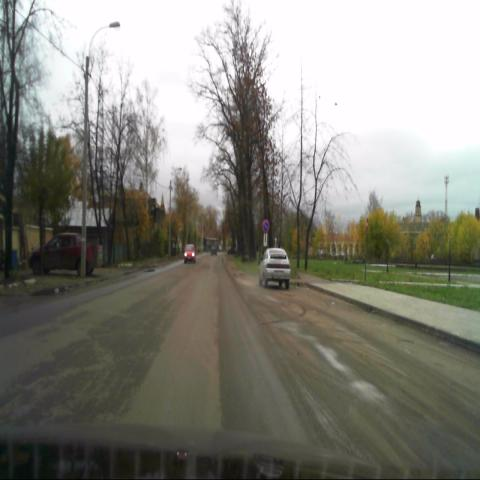3_28: (262, 219, 269, 232)
